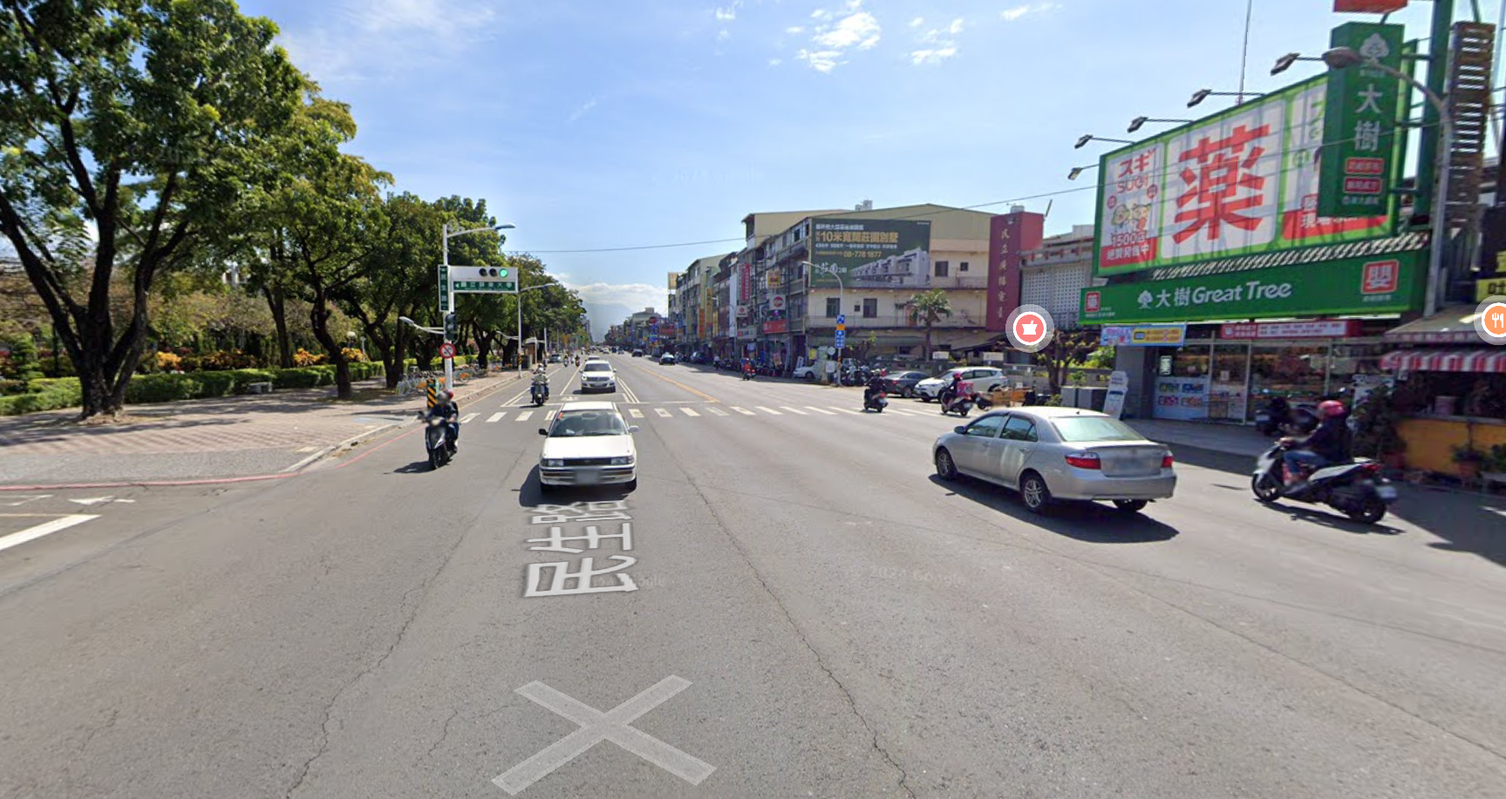green: (467, 262, 514, 288)
